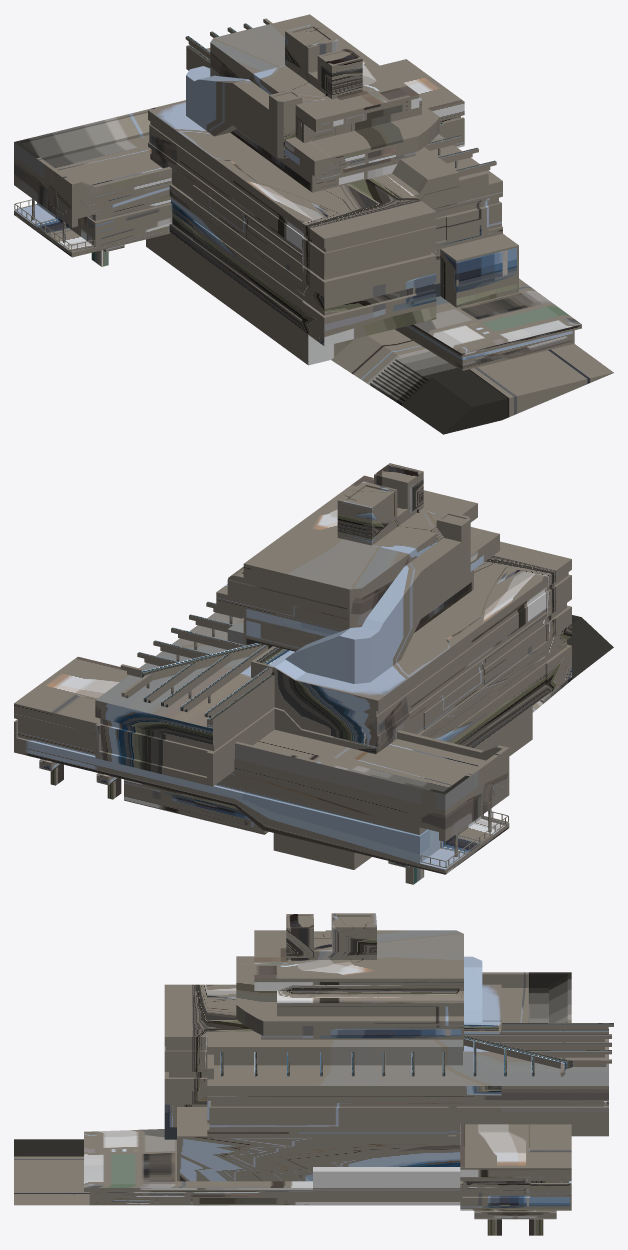
The model's file is terneuzen_textured.fbx.
3 views of the same model, one above another, from view 1: azimuth 30°, elevation 25°; view 2: azimuth 150°, elevation 25°; view 3: azimuth 270°, elevation 25° (orthographic). The views are drawn at different scales.
Parts seen in each view (by area): view 1: TarneuzenStadHuis; view 2: TarneuzenStadHuis; view 3: TarneuzenStadHuis.
Boxes of the visible parts, bbox=[...] form: TarneuzenStadHuis: bbox=[14, 14, 613, 434]; TarneuzenStadHuis: bbox=[14, 463, 613, 884]; TarneuzenStadHuis: bbox=[14, 913, 613, 1235].
Size of the model in its own units: 3259 by 2042 by 4506.
Materials: 1 (1 with a texture image).
